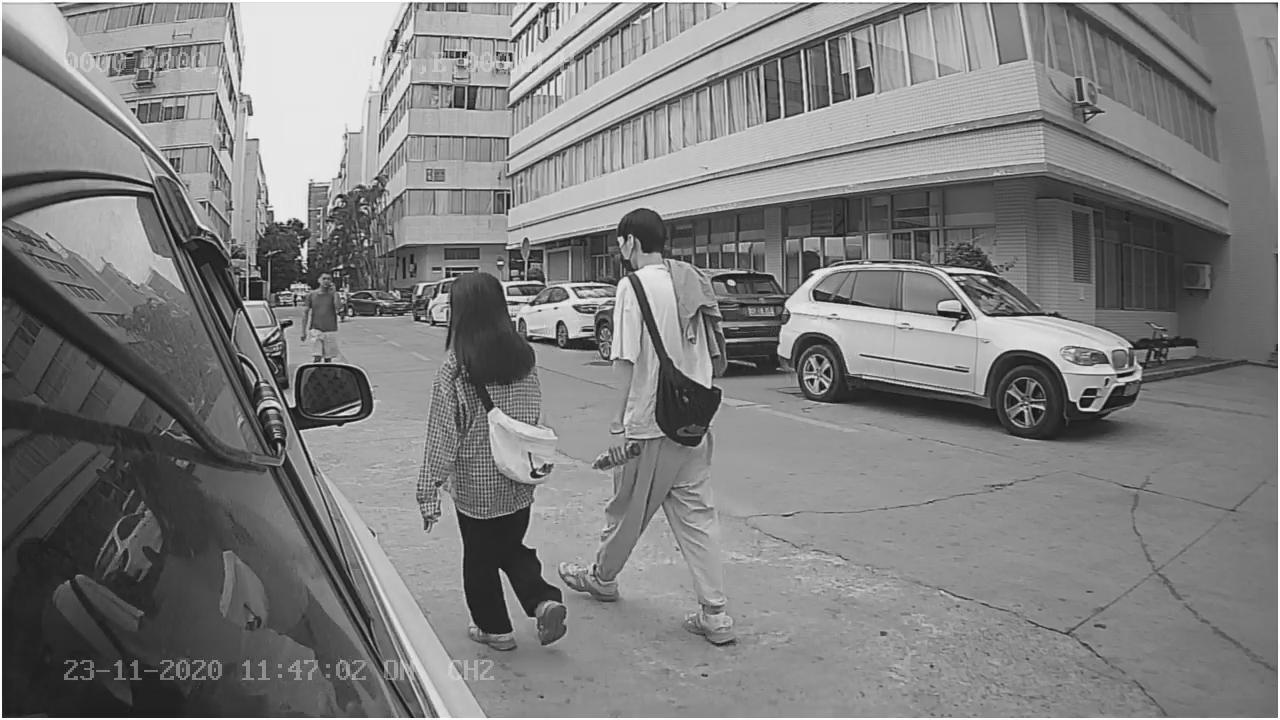person: (573, 193, 746, 638), (414, 262, 566, 646)
